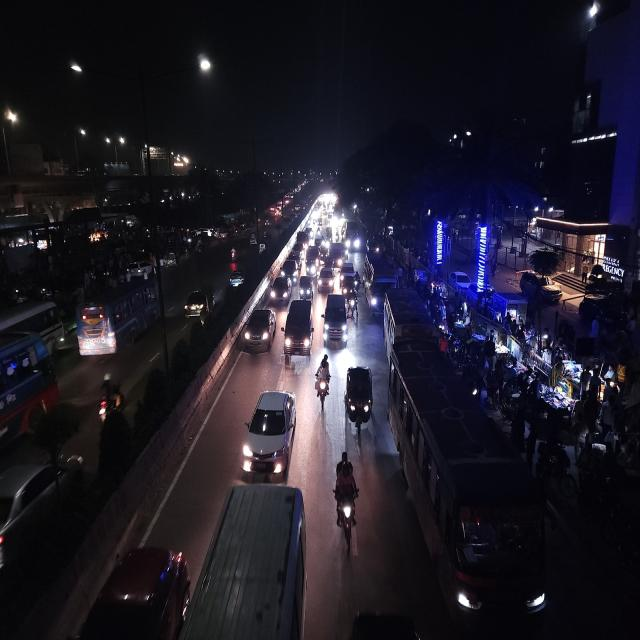bus: (385, 346, 547, 638), (208, 483, 310, 640), (0, 329, 60, 458), (74, 276, 160, 361), (362, 251, 398, 313), (343, 219, 361, 254)
car: (209, 480, 311, 640), (74, 538, 190, 638), (0, 448, 84, 579), (240, 386, 298, 478), (240, 304, 278, 358), (284, 297, 314, 360), (323, 292, 349, 350), (182, 286, 214, 326), (448, 269, 476, 299), (268, 274, 290, 305), (304, 245, 322, 277), (318, 264, 336, 295), (280, 256, 300, 281), (340, 258, 354, 289), (329, 242, 346, 266), (228, 269, 246, 291), (296, 227, 312, 248)
cng: (344, 361, 374, 436), (298, 273, 312, 300)
motorcycle: (330, 448, 360, 549), (96, 372, 126, 424), (314, 351, 332, 410), (348, 286, 358, 321), (228, 244, 238, 262)
